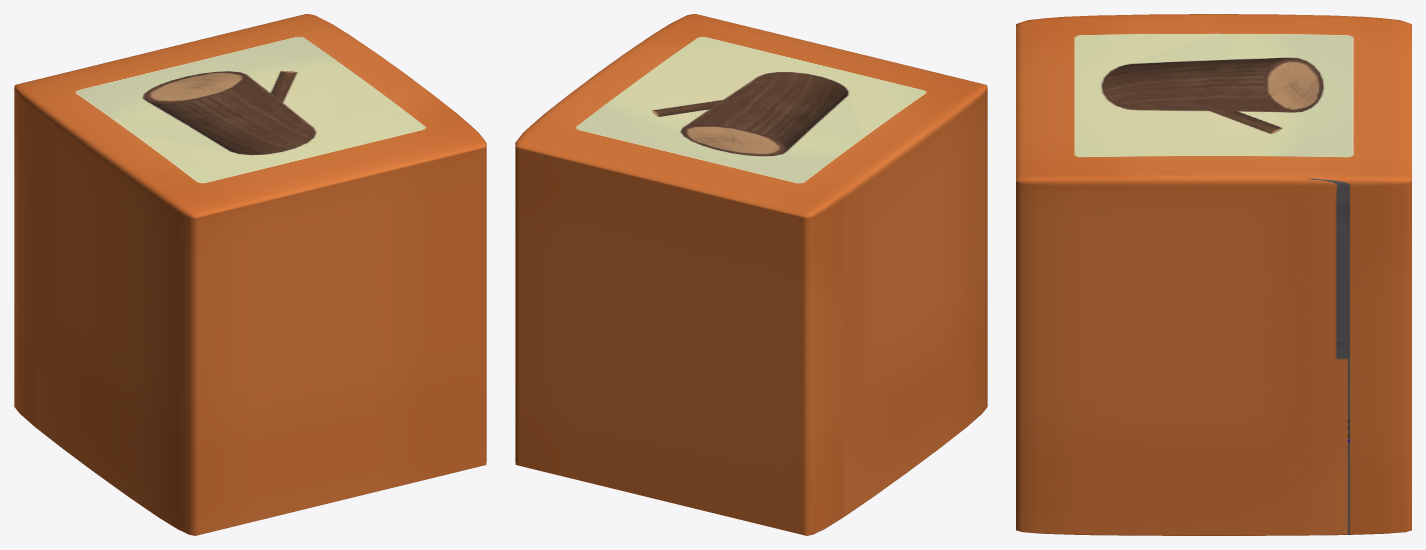
Rendered from sung_box.fbx.
3 renders of one model, left to right at view 1: azimuth 30°, elevation 25°; view 2: azimuth 150°, elevation 25°; view 3: azimuth 270°, elevation 25°, orthographic. The views are drawn at different scales.
Parts seen in each view (by area): view 1: pCube1; view 2: pCube1; view 3: pCube1.
Boxes of the visible parts, x1,y1,x2,y2 form: pCube1: [14, 14, 486, 535]; pCube1: [515, 14, 987, 535]; pCube1: [1016, 14, 1411, 535].
Size of the model in its own units: 0.9972 by 0.999 by 1.
Materials: 1 (1 with a texture image).
